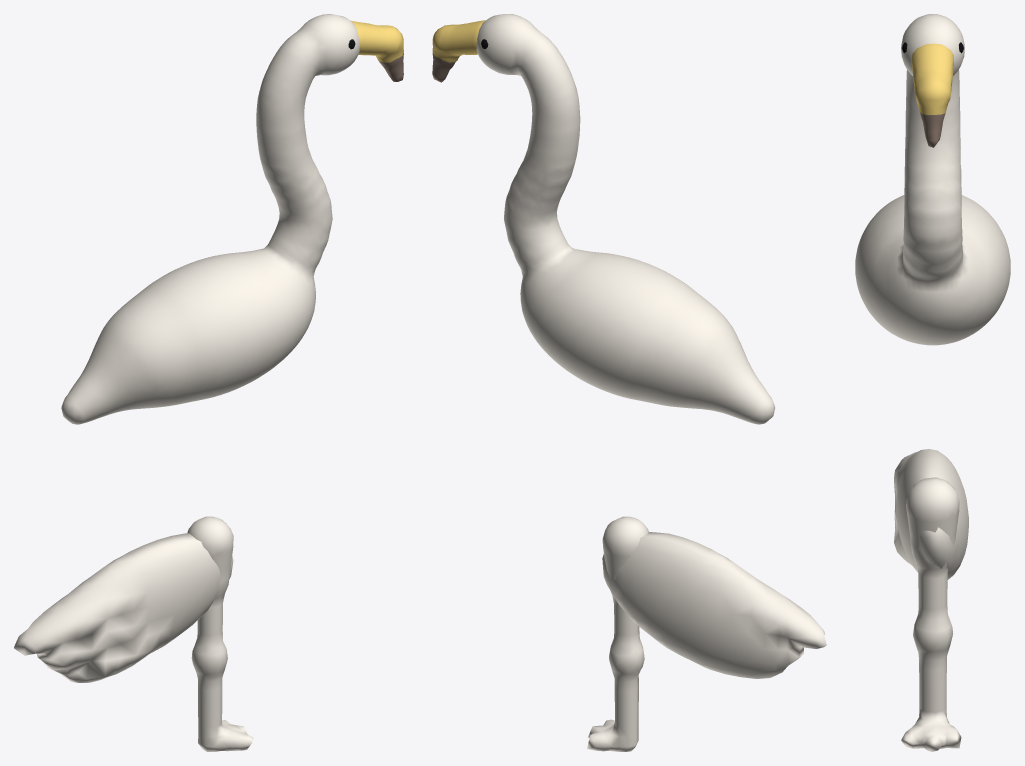
The model's file is flamingo_adult.glb.
The picture shows the model from 3 angles, left to right: view 1: azimuth 30°, elevation 25°; view 2: azimuth 150°, elevation 25°; view 3: azimuth 270°, elevation 25°; orthographic projection. The views are drawn at different scales.
Parts seen in each view (by area): view 1: body, wing, leg, beak; view 2: body, wing, leg, beak; view 3: body, leg, wing, beak.
Boxes of the visible parts, x1,y1,x2,y2 form: body: (61,14,359,424); wing: (14,533,233,682); leg: (187,516,253,751); beak: (350,20,403,81); body: (476,14,775,424); wing: (602,532,826,678); leg: (587,516,648,751); beak: (432,20,485,82); body: (855,14,1010,345); leg: (901,477,961,751); wing: (894,449,968,579); beak: (911,43,953,147).
Size of the model in its own units: 2.19 by 3.77 by 0.679.
